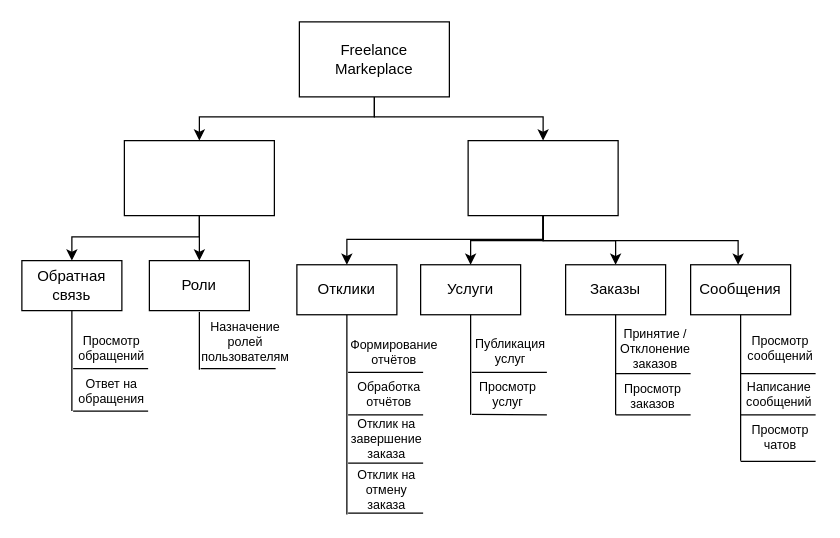
Image size: 840x538. Some labels were removed from this diagram. Each missing label, with the centre of its shape:
"Административная часть" goes at (x=198, y=177).
"Пользовательская часть" goes at (x=542, y=177).
